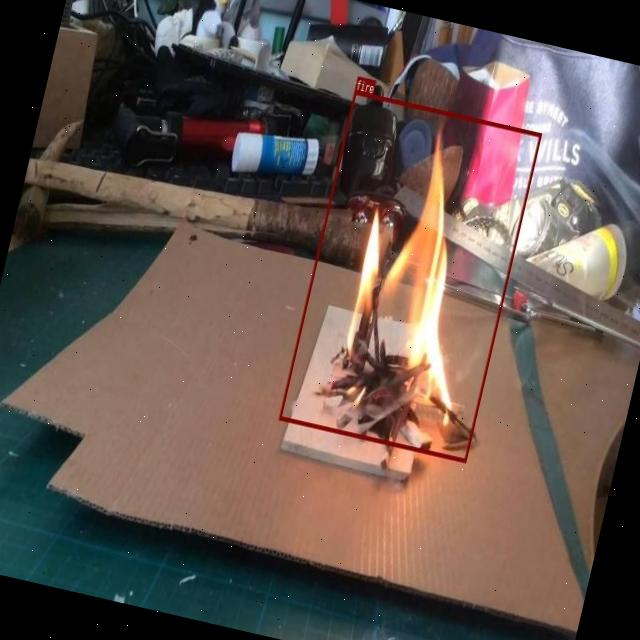fire: (278, 90, 542, 462)
